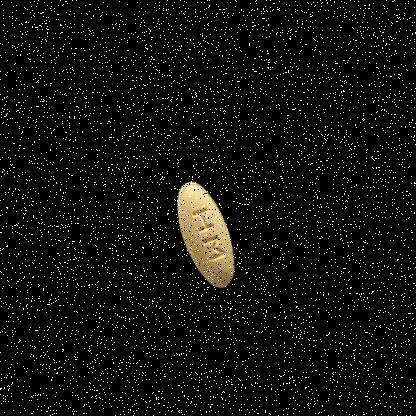tovast10: (152, 163, 258, 302)
